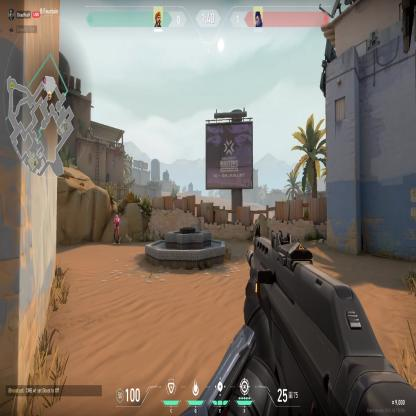enemy: (113, 212, 120, 246)
